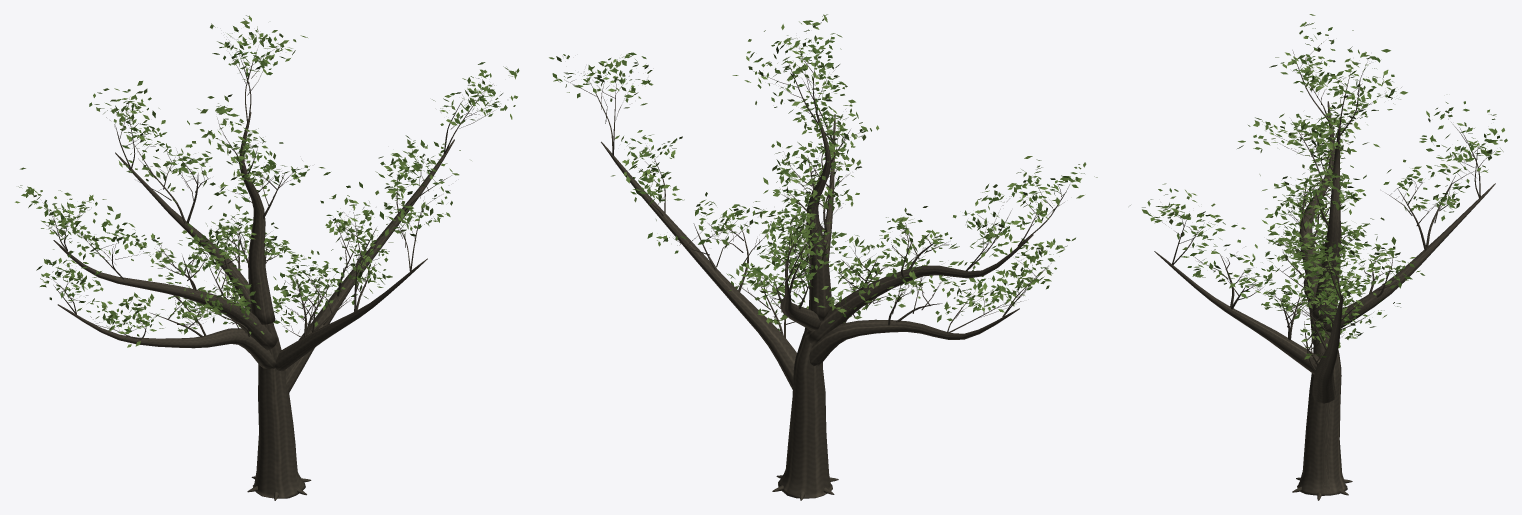
The picture shows the model from 3 angles, left to right: view 1: azimuth 30°, elevation 25°; view 2: azimuth 150°, elevation 25°; view 3: azimuth 270°, elevation 25°; orthographic projection. The views are drawn at different scales.
Parts seen in each view (by area): view 1: T-A; view 2: T-A; view 3: T-A.
Part boxes in pixels (left/top/right/bottom): T-A: left=15, top=15, right=519, bottom=500; T-A: left=549, top=14, right=1097, bottom=500; T-A: left=1130, top=14, right=1507, bottom=500.
Size of the model in its own units: 10.4 by 8.8 by 7.
9 materials, 1 textured.
